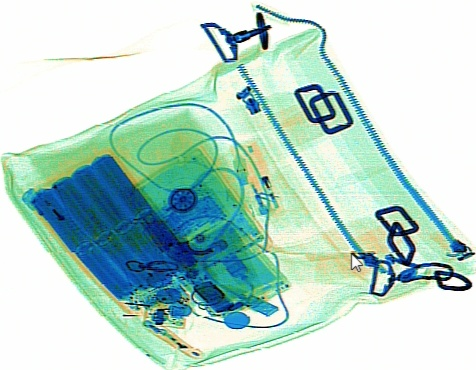lighter: (21, 186, 89, 249), (234, 136, 281, 216), (136, 316, 204, 361)
powerbank: (22, 151, 208, 318)
